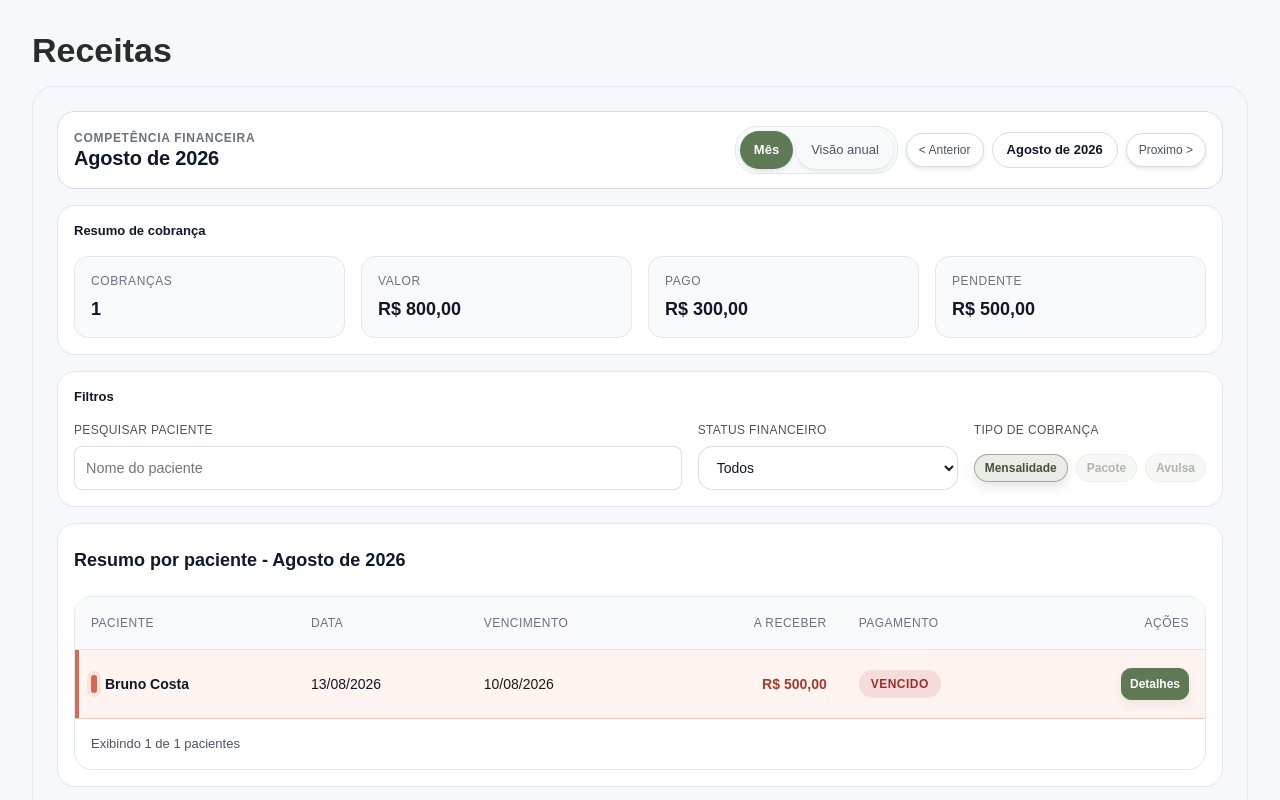
Test: parcial, vencido, hoje e futuro usam vencimento real sem alterar Data
Click the button "Detalhes" at [1155, 684], box [1121,668,1189,700]
(page scrolled)
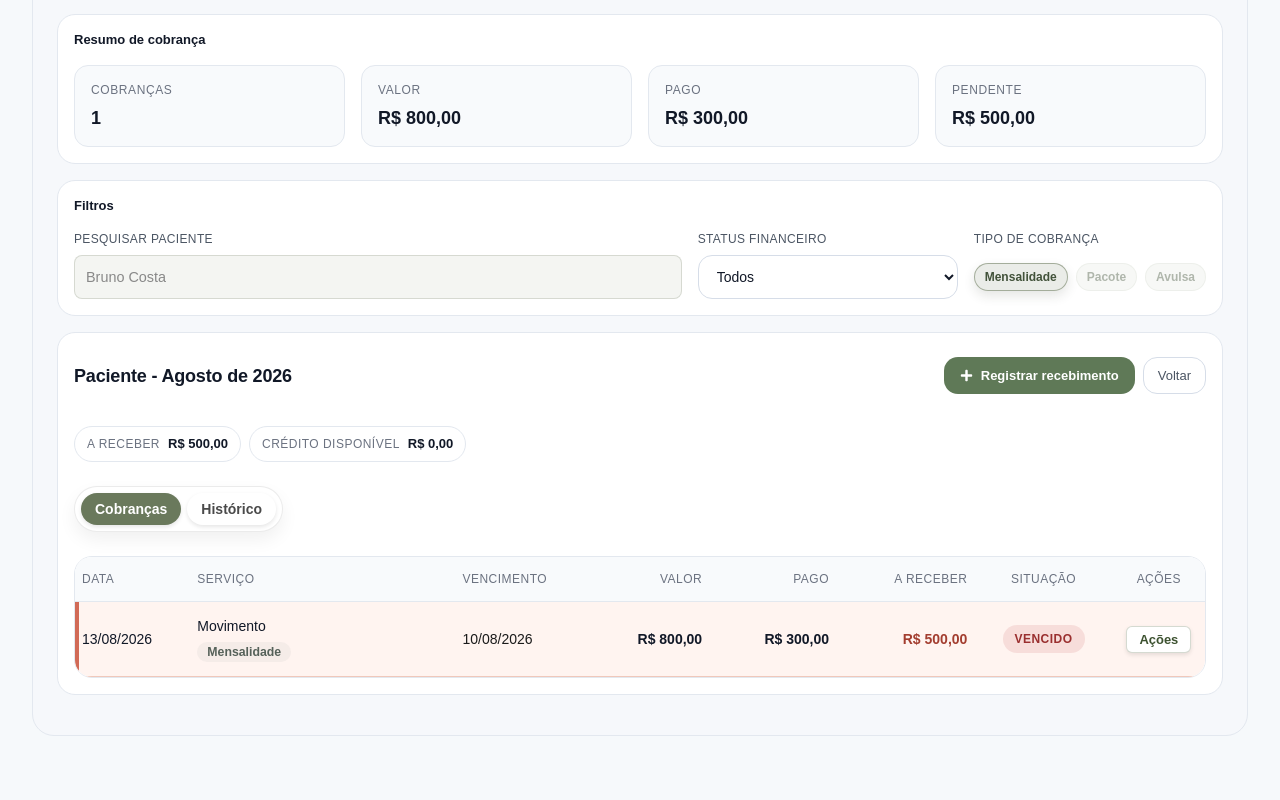
Expected: the text "Movimento" shows "13/08/2026", [82,631,152,647]
Now the button "Registrar recebimento" is enabled, box [944,357,1135,394]
Now the text "Movimento" shows "R$ 300,00", box [764,631,829,647]
